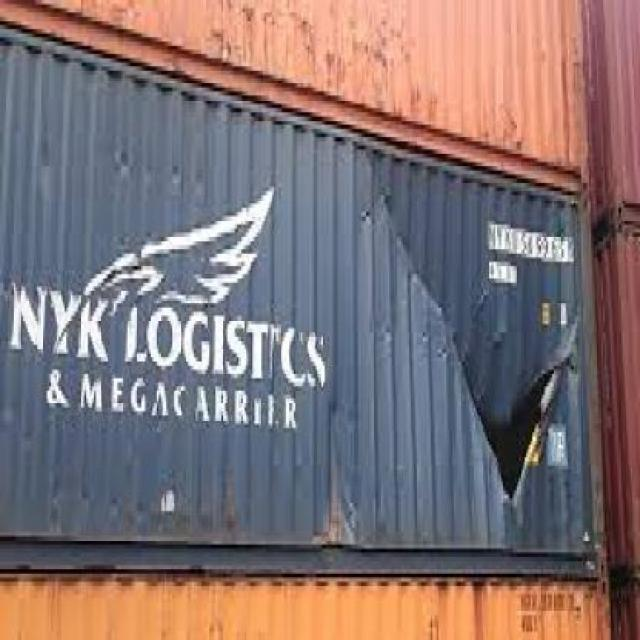dent: (361, 186, 452, 331)
hole: (454, 335, 583, 506)
rust: (313, 441, 358, 547)
